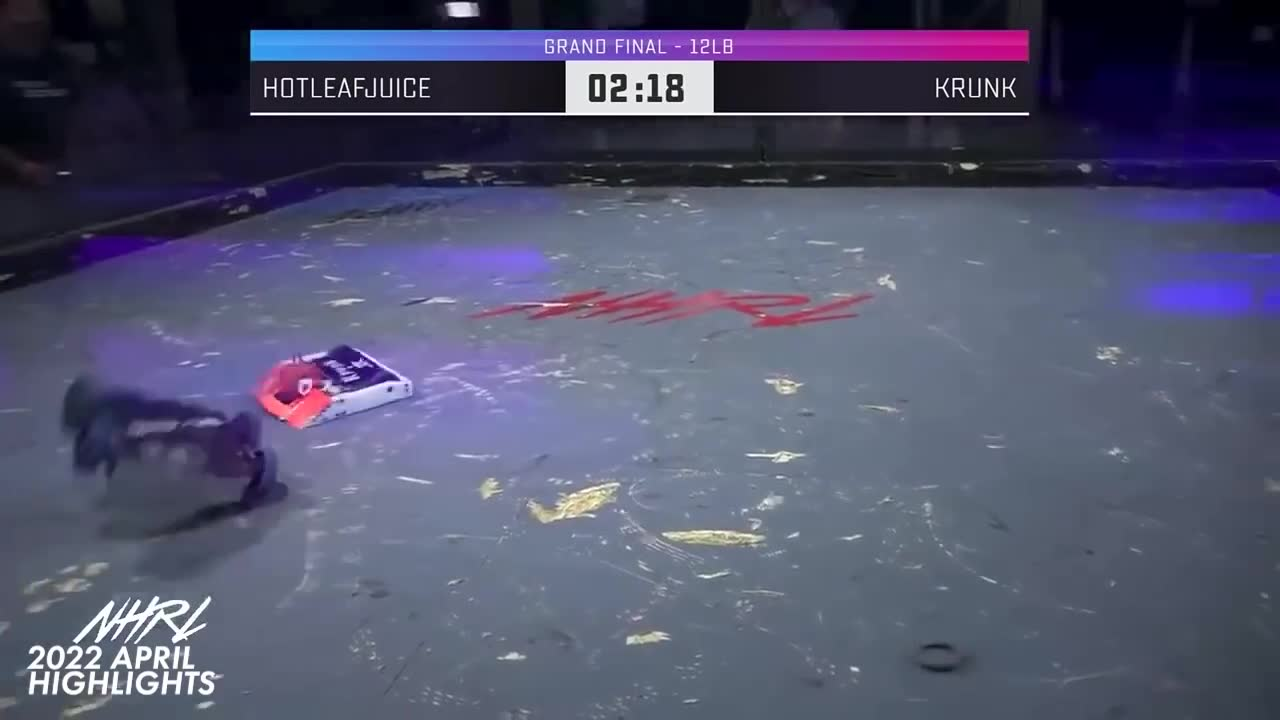combatbot: (59, 375, 272, 523), (257, 344, 412, 426)
wheel: (916, 644, 960, 673)
